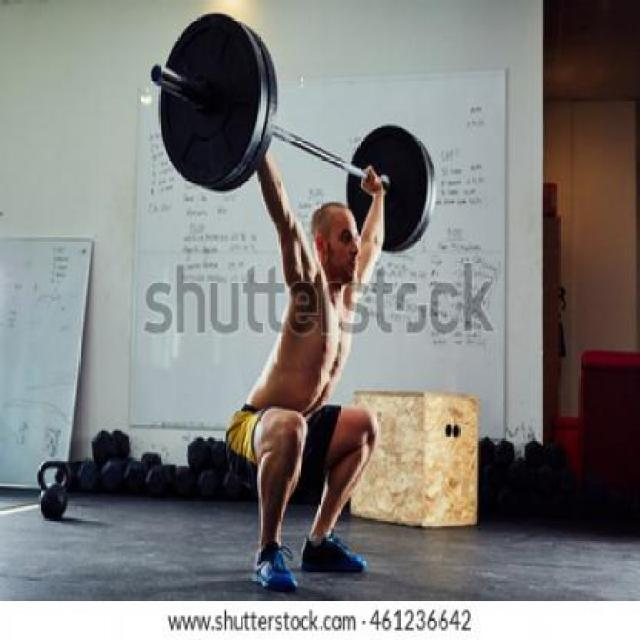Barbell: (144, 56, 178, 92)
